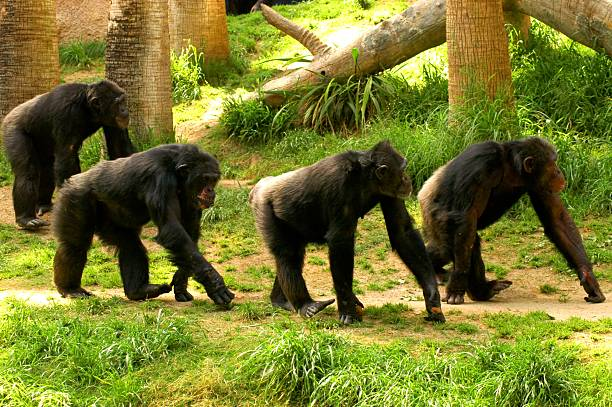chimpanzee: (511, 124, 571, 198), (364, 134, 420, 209), (81, 70, 140, 135), (181, 146, 231, 220)
